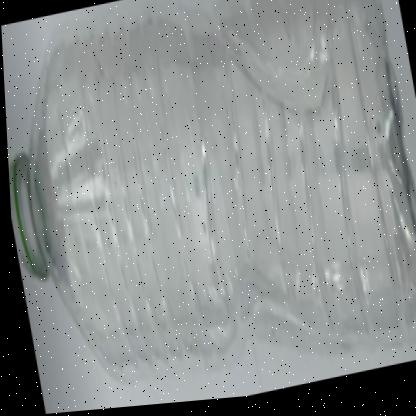open bottle: (2, 10, 130, 416)
